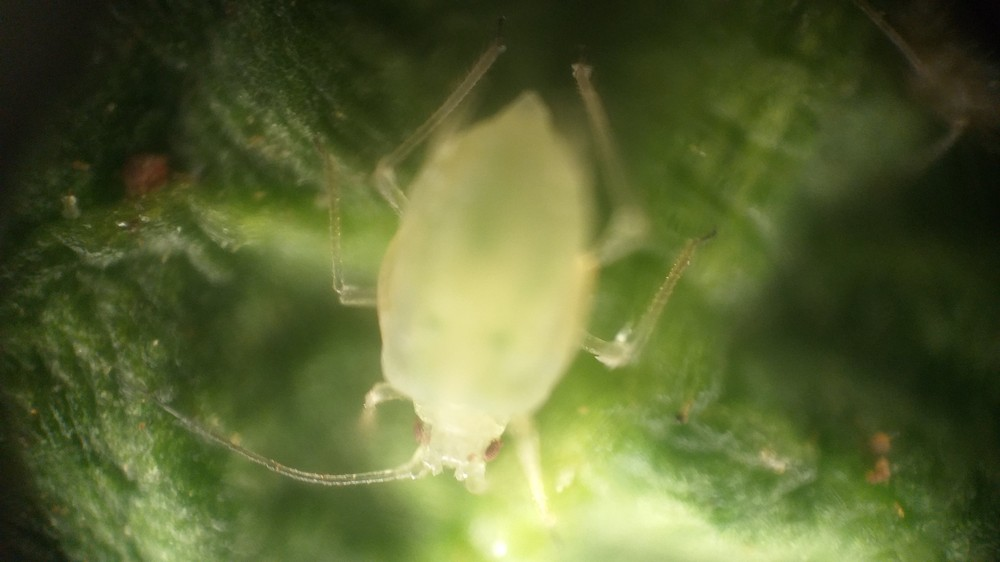Pulgon: (218, 31, 721, 553)
